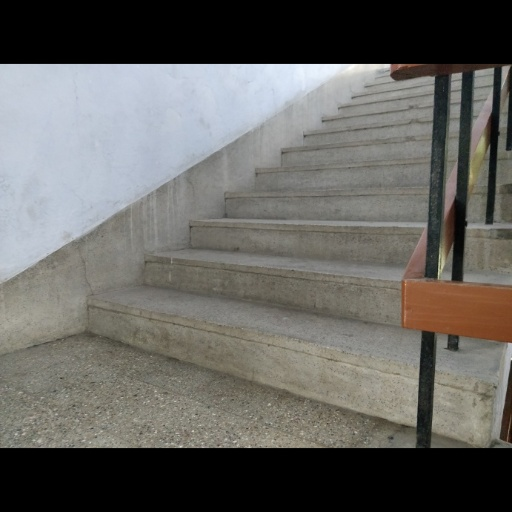Stairs: (89, 75, 432, 426)
